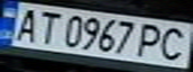0: (57, 12, 84, 50)
6: (96, 16, 121, 54)
7: (112, 18, 139, 56)
9: (78, 15, 103, 52)
A: (6, 6, 45, 43)
C: (154, 25, 193, 62)
P: (133, 20, 169, 58)
T: (30, 8, 63, 45)
